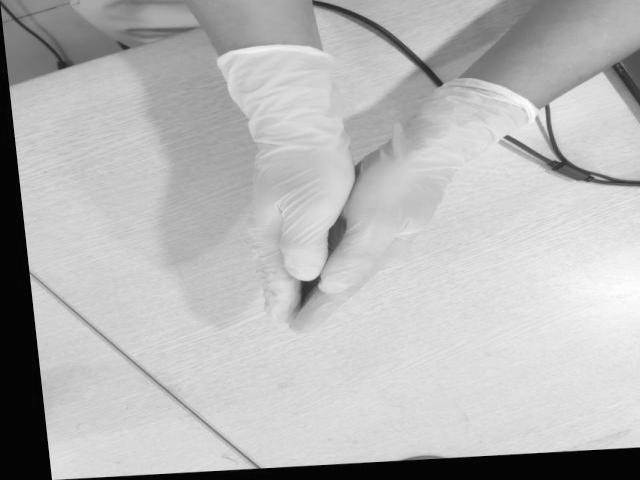gloved: (294, 156, 456, 344), (249, 141, 357, 331)
